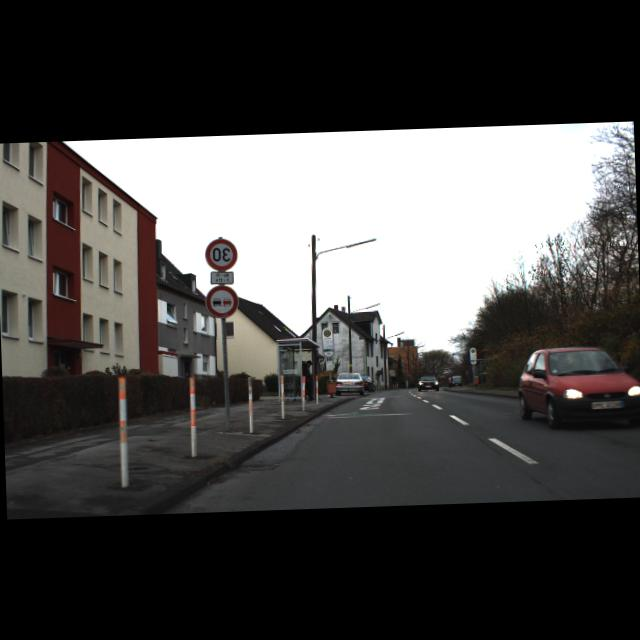prohibitory: (204, 284, 238, 318), (204, 237, 238, 270)
